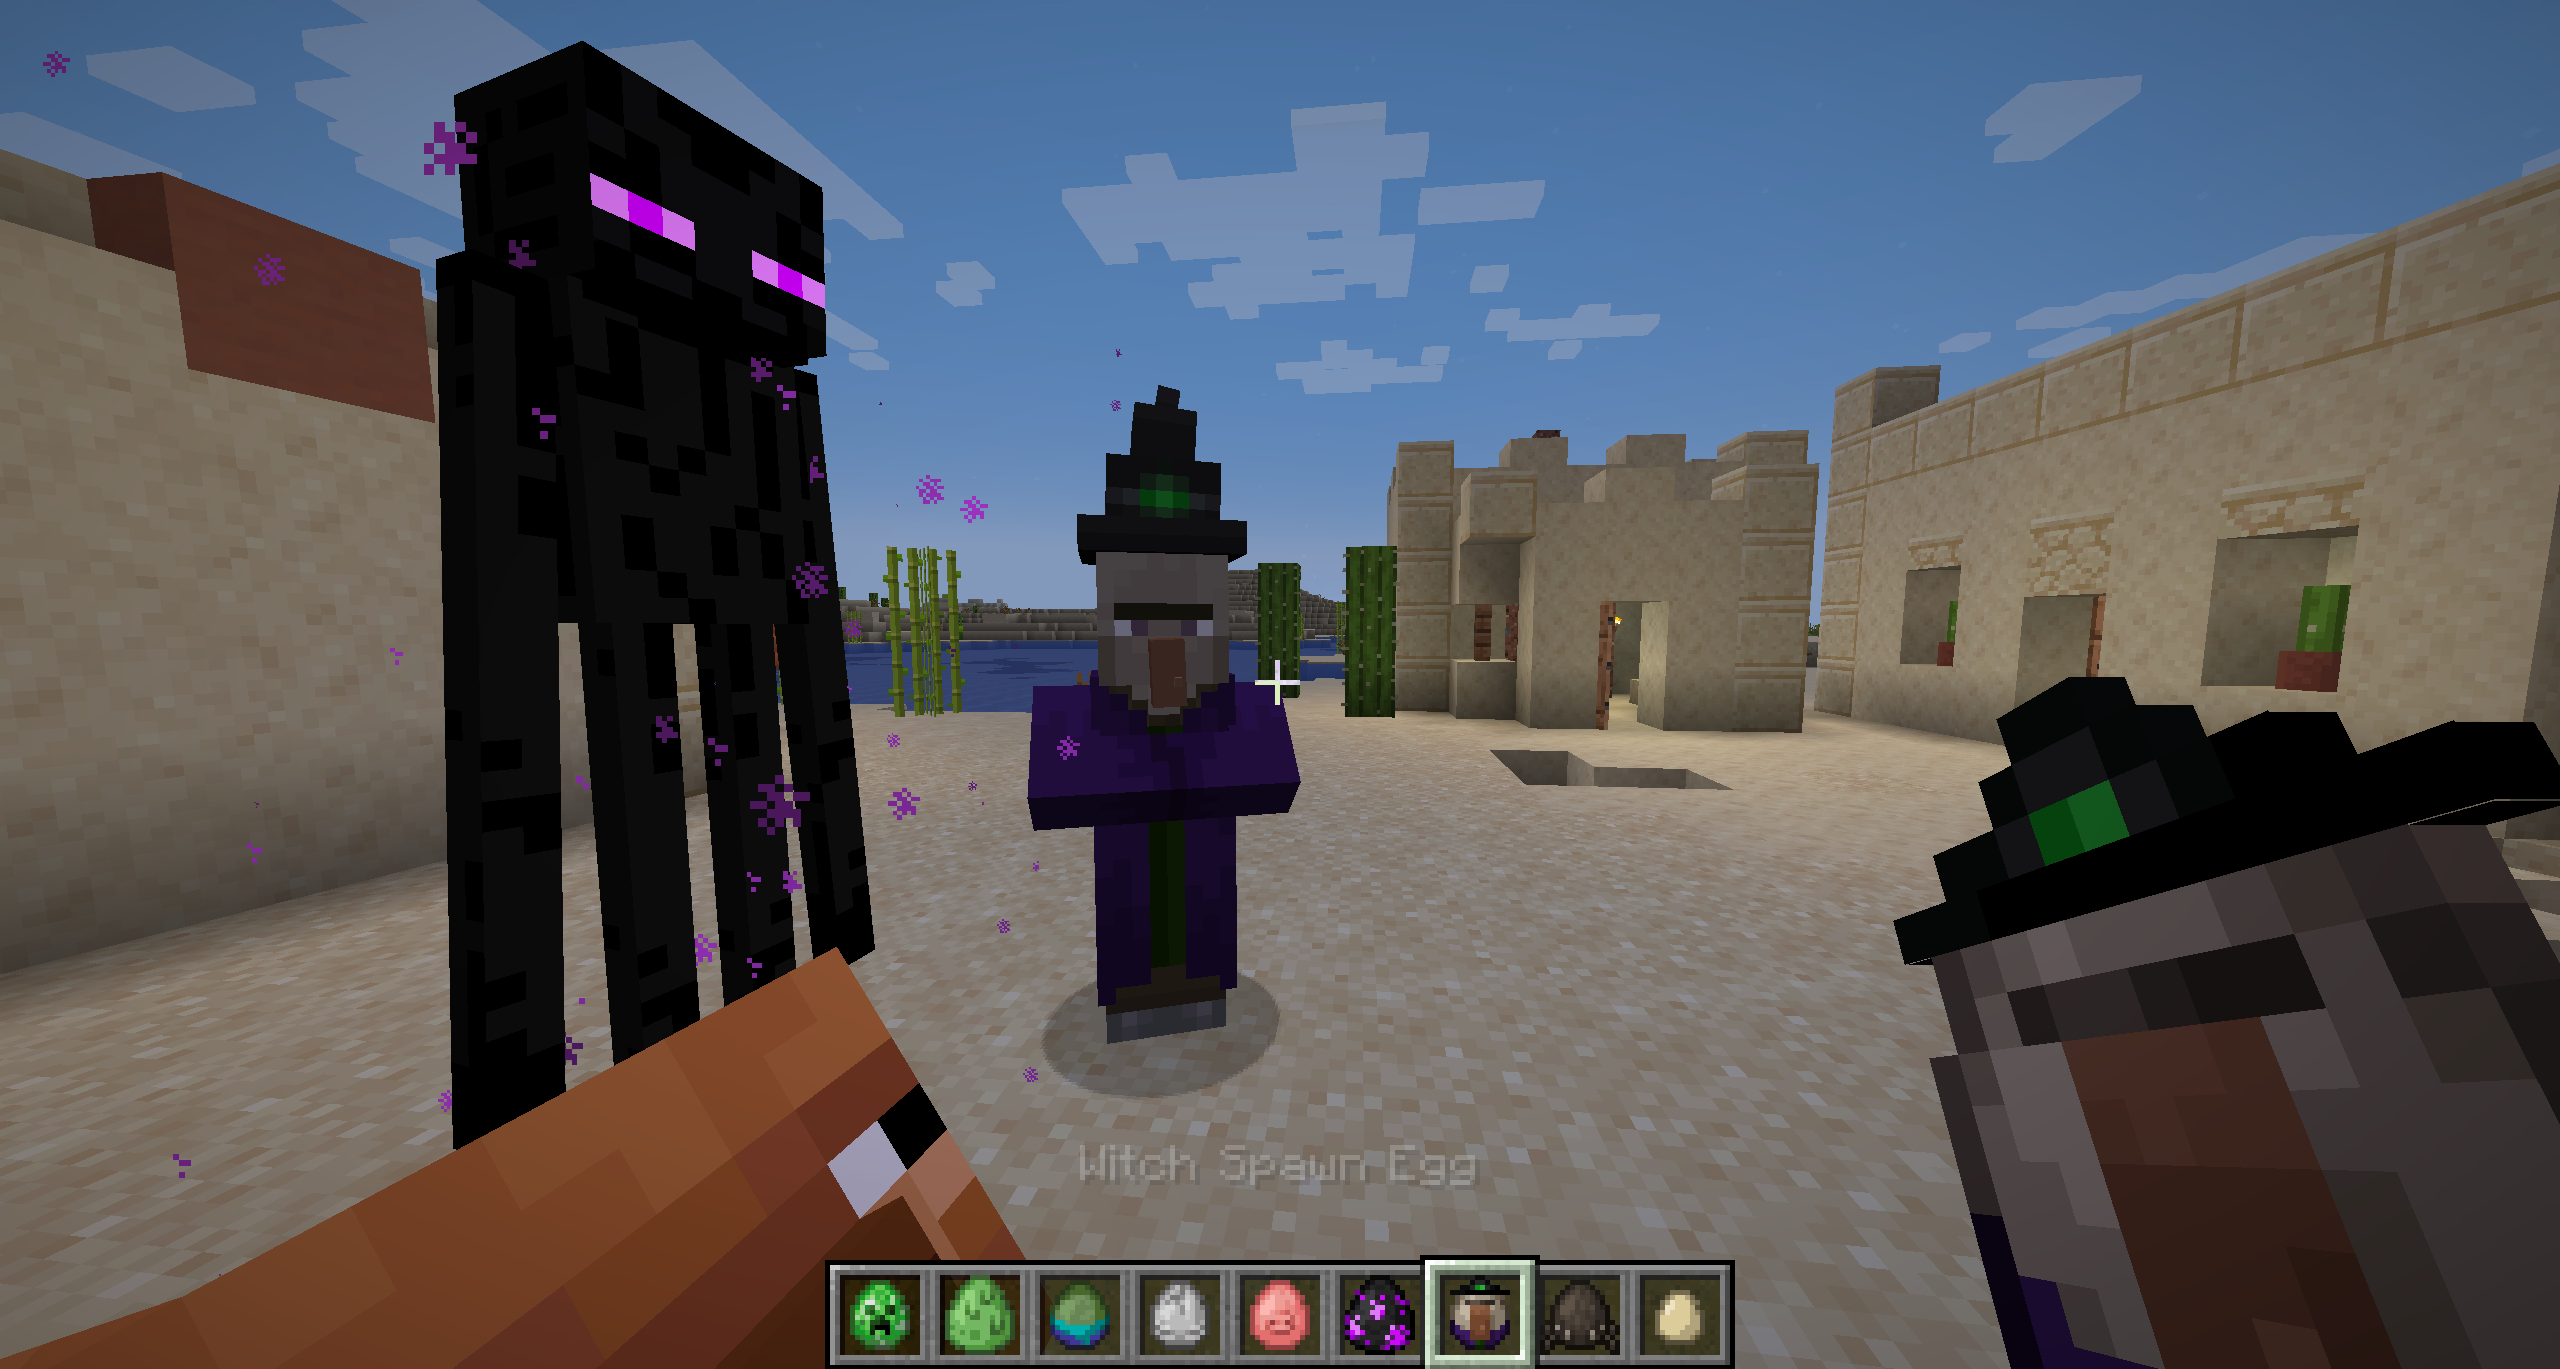endermens: (420, 61, 879, 1100)
sorcieres: (1034, 369, 1297, 1059)
